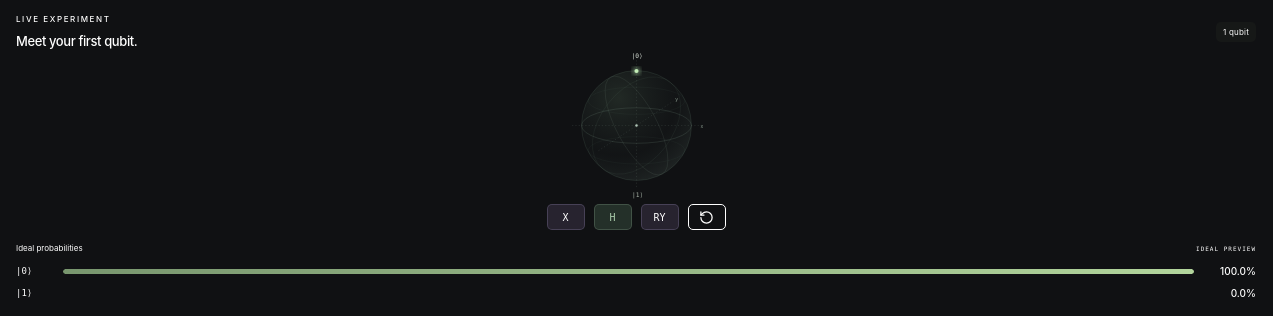
it: interactive learning components › applies X to the visible qubit preview and resets
This screenshot has width=1273, height=316.
Click the button "X" at (566, 217), box [546, 204, 584, 230]
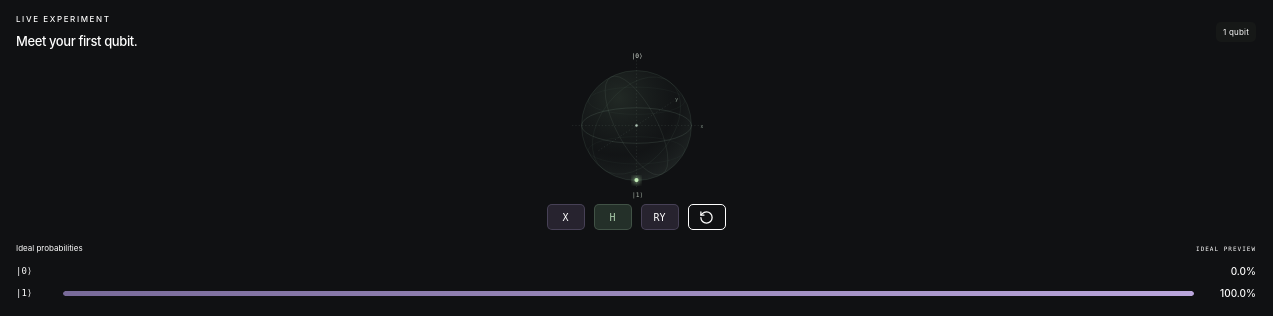
Expected: the text "|1⟩" is shown, [16, 288, 32, 298]
Now the text "100.0%" is shown, box [1220, 287, 1256, 299]
Click the button named "Reset qubit" at (706, 217), box [688, 204, 726, 230]
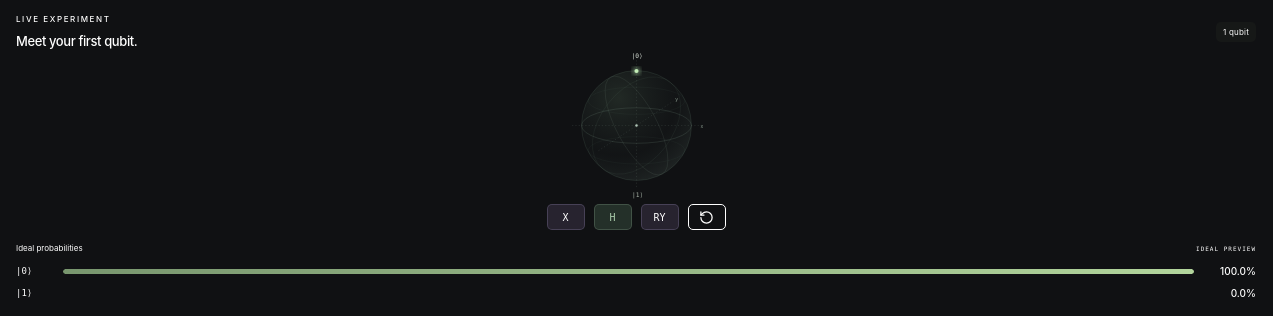
Now the text "100.0%" is shown, box [1220, 265, 1256, 277]
